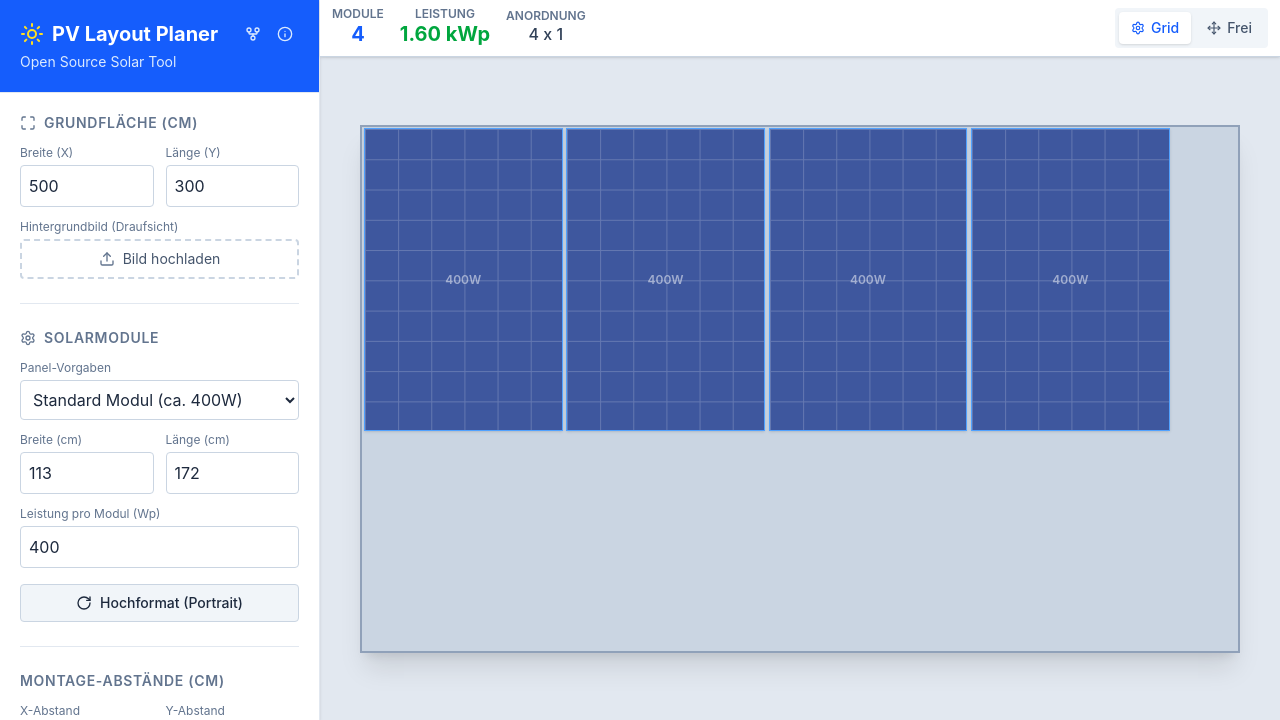
Test case: Free placement mode › switches to free mode when Frei button is clicked
The width and height of the screenshot is (1280, 720).
Click the button with aria-label "switch to free placement mode" at point(1230, 28), box [1195,12,1264,44]
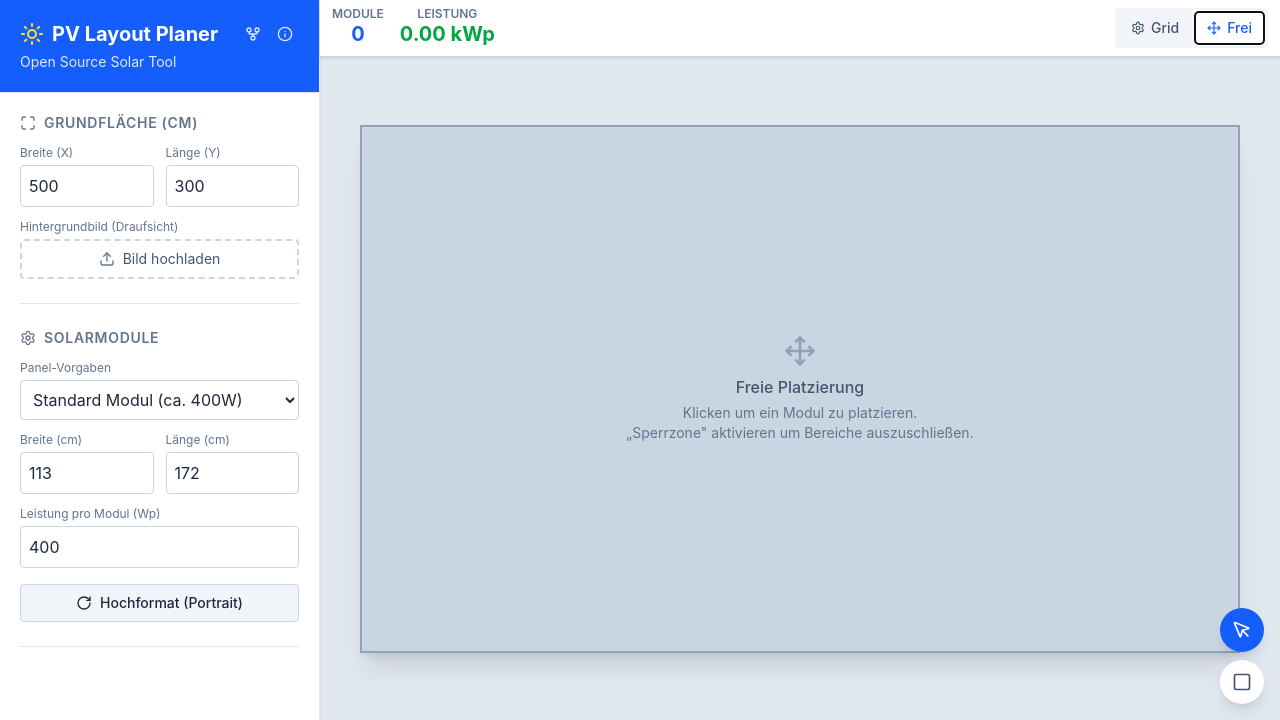
Expected: the button with test id "tool-draw-zone" is shown, [1220,660,1264,704]
